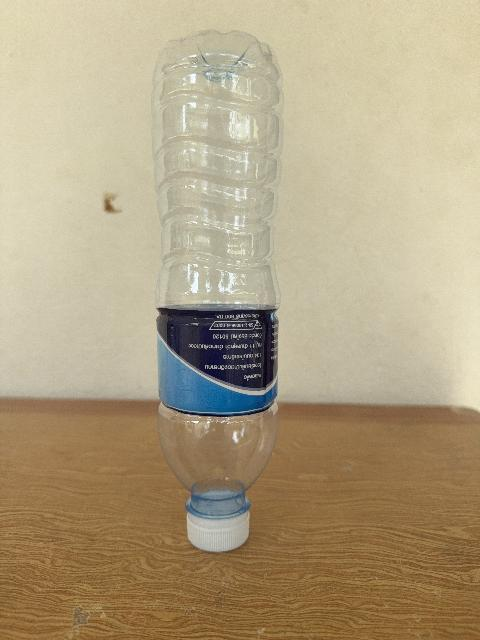bottle: (153, 31, 282, 551)
